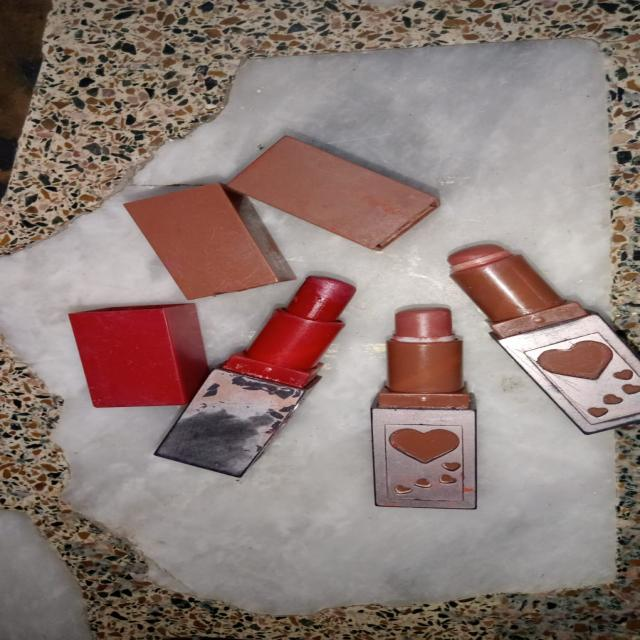lip stick: (382, 240, 640, 524), (123, 271, 375, 494)
